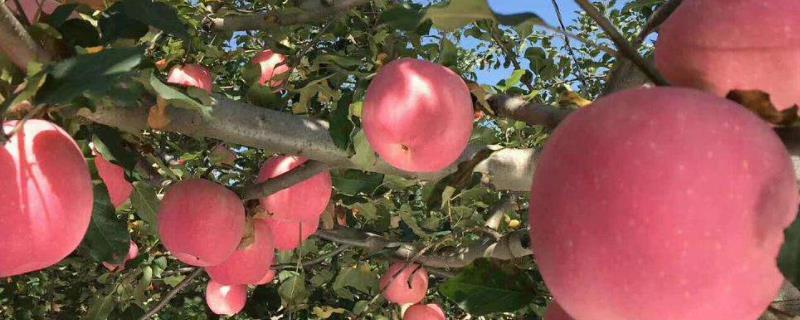apple: (521, 85, 792, 319), (1, 116, 92, 280), (362, 58, 476, 176), (158, 176, 242, 263), (256, 153, 331, 219), (203, 217, 272, 287), (381, 261, 431, 301)
